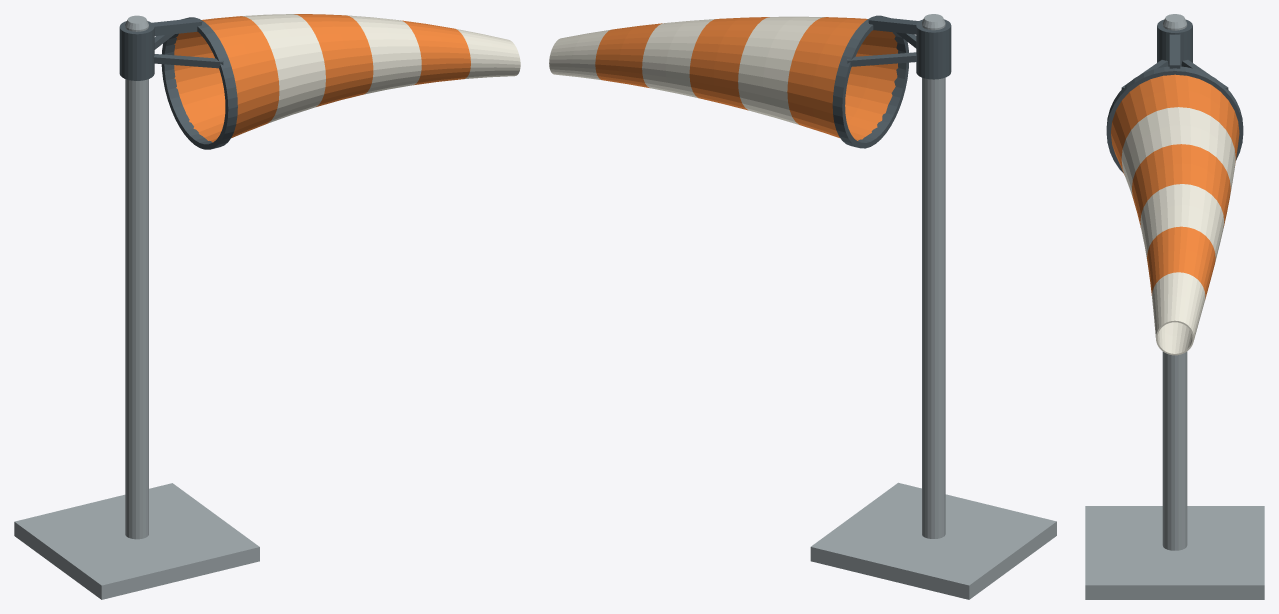
3 renders of one model, left to right at view 1: azimuth 30°, elevation 25°; view 2: azimuth 150°, elevation 25°; view 3: azimuth 270°, elevation 25°, orthographic. The views are drawn at different scales.
Visible parts, largest first — view 1: WholeOpenEndedTaperedFabricShell, WholeGroundFootBase, WholeTallMast, WholeOpenCircularMouthHoop, WholeUpperMastSleeve, WholeSideMouthSupport_0, WholeUpperMouthSupport; view 2: WholeOpenEndedTaperedFabricShell, WholeGroundFootBase, WholeTallMast, WholeOpenCircularMouthHoop, WholeUpperMastSleeve, WholeSideMouthSupport_1, WholeUpperMouthSupport; view 3: WholeOpenEndedTaperedFabricShell, WholeGroundFootBase, WholeTallMast, WholeOpenCircularMouthHoop, WholeUpperMastSleeve, WholeUpperMouthSupport.
Part boxes in pixels (left/top/right/bottom): WholeOpenEndedTaperedFabricShell: left=174, top=14, right=520, bottom=142; WholeGroundFootBase: left=14, top=483, right=259, bottom=599; WholeTallMast: left=125, top=15, right=148, bottom=539; WholeOpenCircularMouthHoop: left=161, top=17, right=237, bottom=149; WholeUpperMastSleeve: left=119, top=21, right=154, bottom=80; WholeSideMouthSupport_0: left=153, top=54, right=223, bottom=68; WholeUpperMouthSupport: left=152, top=18, right=201, bottom=35; WholeOpenEndedTaperedFabricShell: left=549, top=16, right=898, bottom=140; WholeGroundFootBase: left=810, top=482, right=1056, bottom=599; WholeTallMast: left=922, top=14, right=945, bottom=538; WholeOpenCircularMouthHoop: left=832, top=15, right=908, bottom=148; WholeUpperMastSleeve: left=916, top=19, right=951, bottom=79; WholeSideMouthSupport_1: left=847, top=52, right=916, bottom=66; WholeUpperMouthSupport: left=868, top=16, right=918, bottom=34; WholeOpenEndedTaperedFabricShell: left=1111, top=74, right=1239, bottom=355; WholeGroundFootBase: left=1085, top=506, right=1264, bottom=599; WholeTallMast: left=1162, top=14, right=1187, bottom=550; WholeOpenCircularMouthHoop: left=1106, top=66, right=1243, bottom=173; WholeUpperMastSleeve: left=1157, top=19, right=1192, bottom=66; WholeUpperMouthSupport: left=1169, top=34, right=1180, bottom=68.
Size of the model in its own units: 1.32 by 1.47 by 0.44.
